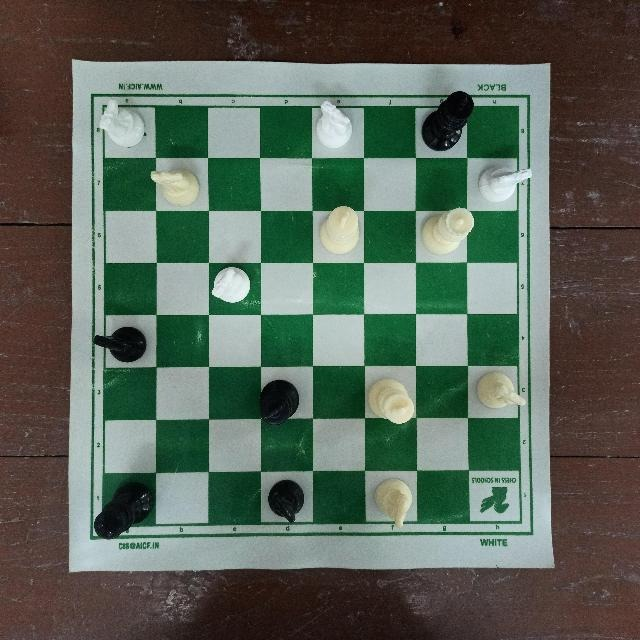black-king: (90, 474, 152, 550), (422, 90, 474, 154), (260, 372, 300, 427)
black-knight: (260, 478, 314, 532), (90, 324, 149, 363)
white-king: (314, 203, 366, 262), (370, 372, 422, 428)
white-knight: (471, 157, 539, 207), (144, 162, 204, 213), (371, 480, 418, 536), (313, 97, 358, 153), (476, 367, 527, 415), (100, 100, 146, 148), (207, 270, 252, 307)
white-queen: (424, 205, 475, 256)
